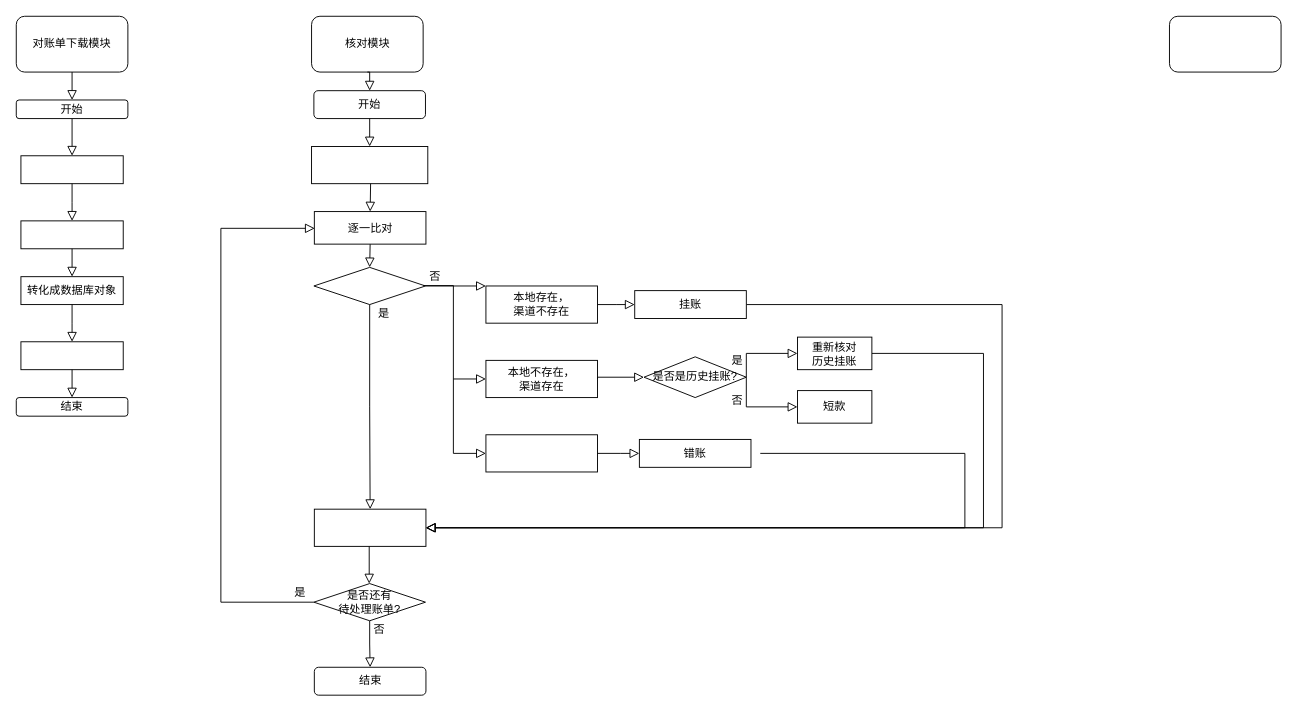
This 1297x711 diagram has some shape labels left out. Each missing label, with the centre of its shape:
下载对账单: the point at 71,169
取出当日全量订单记录 (本地+渠道): the point at 369,165
差异处理模块: the point at 1225,43
录入到对账结果表: the point at 369,527
录入渠道账单表: the point at 71,355
是否对平?: the point at 369,285
本地渠道都存在， 但是对不齐: the point at 541,453
解析对账文件: the point at 71,234
